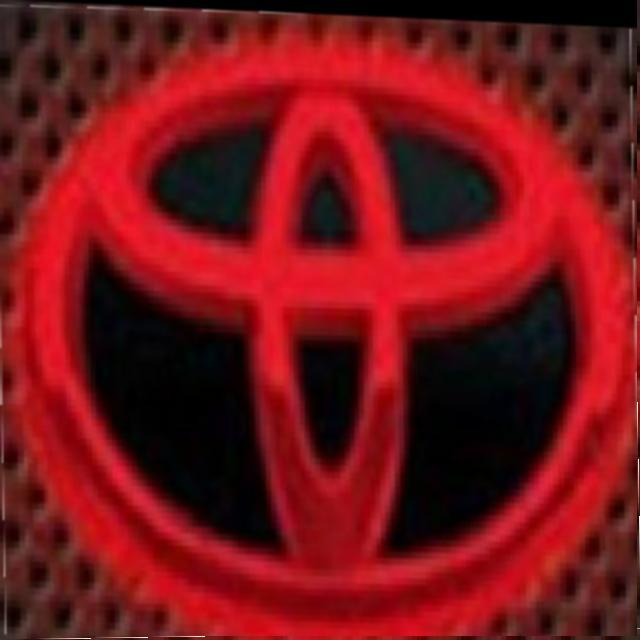Toyota: (0, 0, 637, 636)
